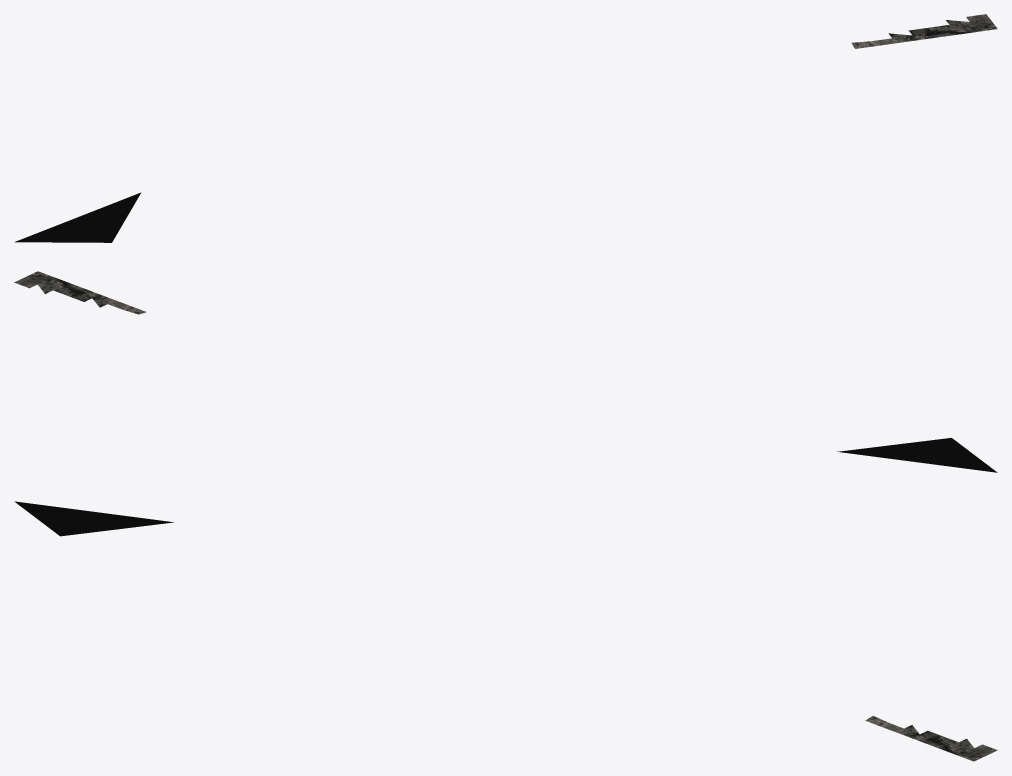
File: world_camden_14_2.gltf
3 views of the same model, one above another, from view 1: azimuth 30°, elevation 25°; view 2: azimuth 150°, elevation 25°; view 3: azimuth 330°, elevation 25° (orthographic). The views are drawn at different scales.
Size of the model in its own units: 193 by 5.6 by 17.34.
2 materials, 2 textured.
